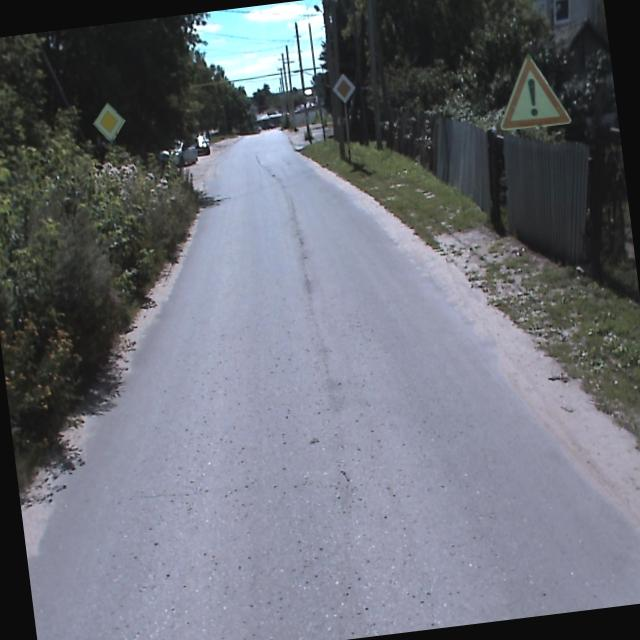road: (27, 126, 640, 640)
